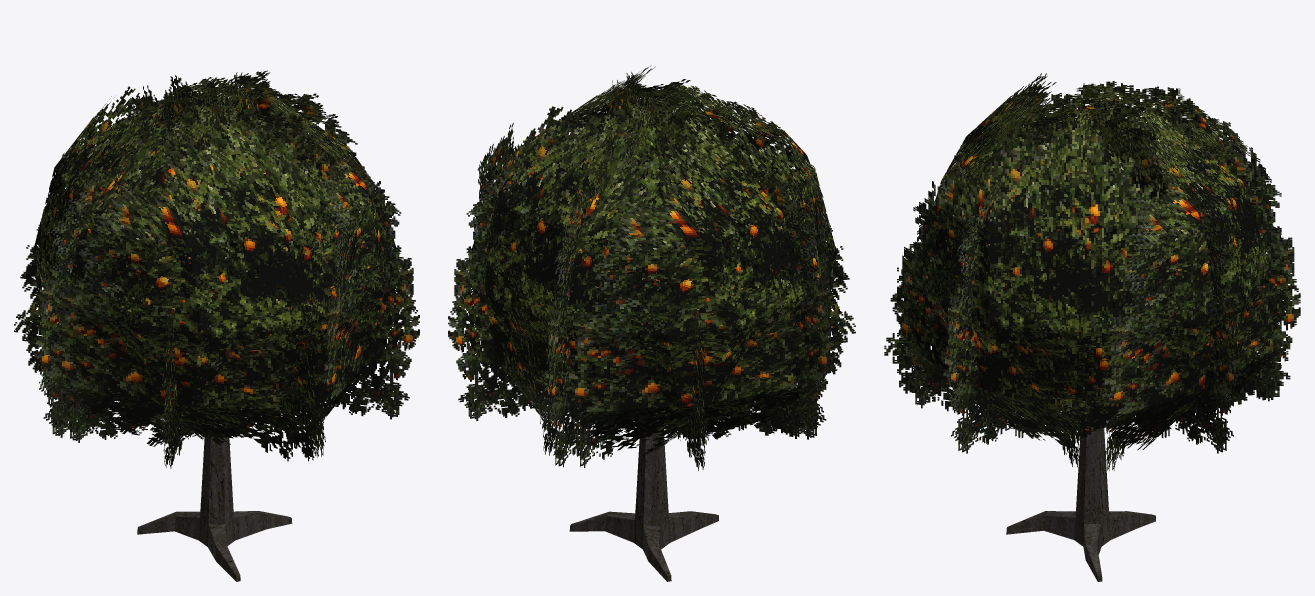
The model's file is tree03_summer.glb.
3 views of the same model, side by side, from view 1: azimuth 30°, elevation 25°; view 2: azimuth 150°, elevation 25°; view 3: azimuth 270°, elevation 25° (orthographic).
Parts seen in each view (by area): view 1: tree03; view 2: tree03; view 3: tree03.
Boxes of the visible parts, bbox=[...] form: tree03: bbox=[14, 70, 419, 581]; tree03: bbox=[448, 65, 855, 581]; tree03: bbox=[884, 73, 1300, 581].
Size of the model in its own units: 6.72 by 7.87 by 6.72.
Materials: 1 (1 with a texture image).
